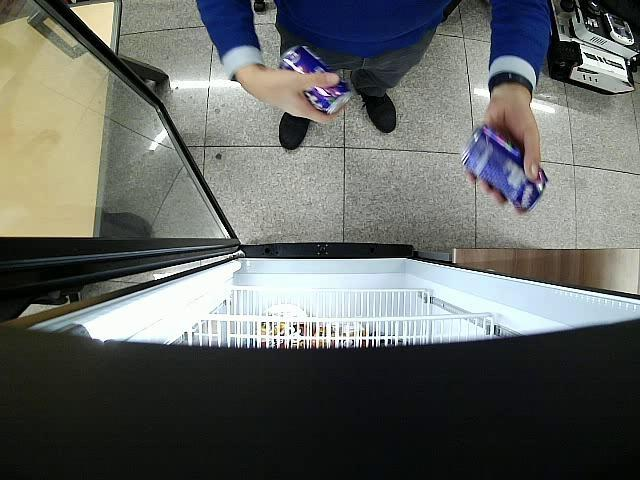14_welchsGrape: (462, 126, 546, 212), (279, 46, 351, 114)
